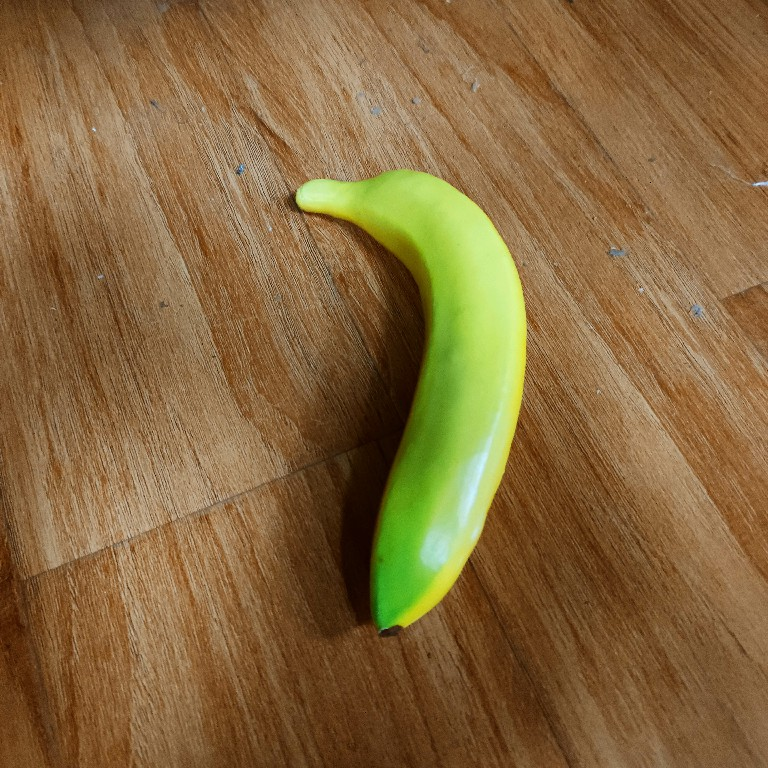fruit_banana: (290, 166, 531, 645)
